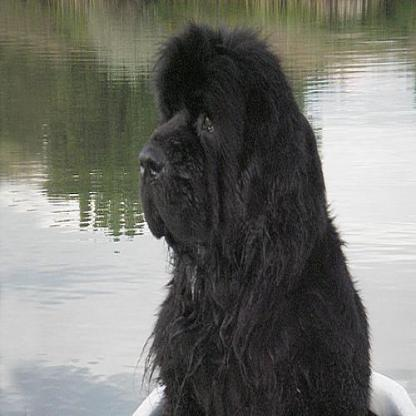Newfoundland: (134, 14, 374, 414)
